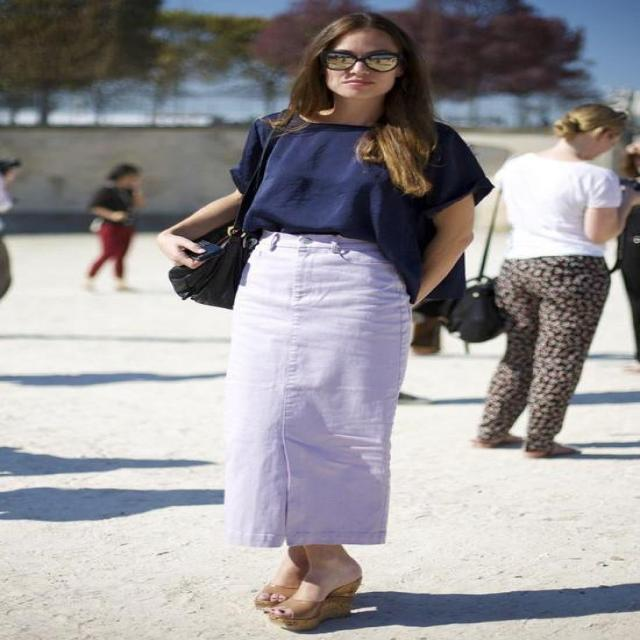Tshirt: (231, 106, 494, 307)
skirt: (220, 229, 413, 547)
